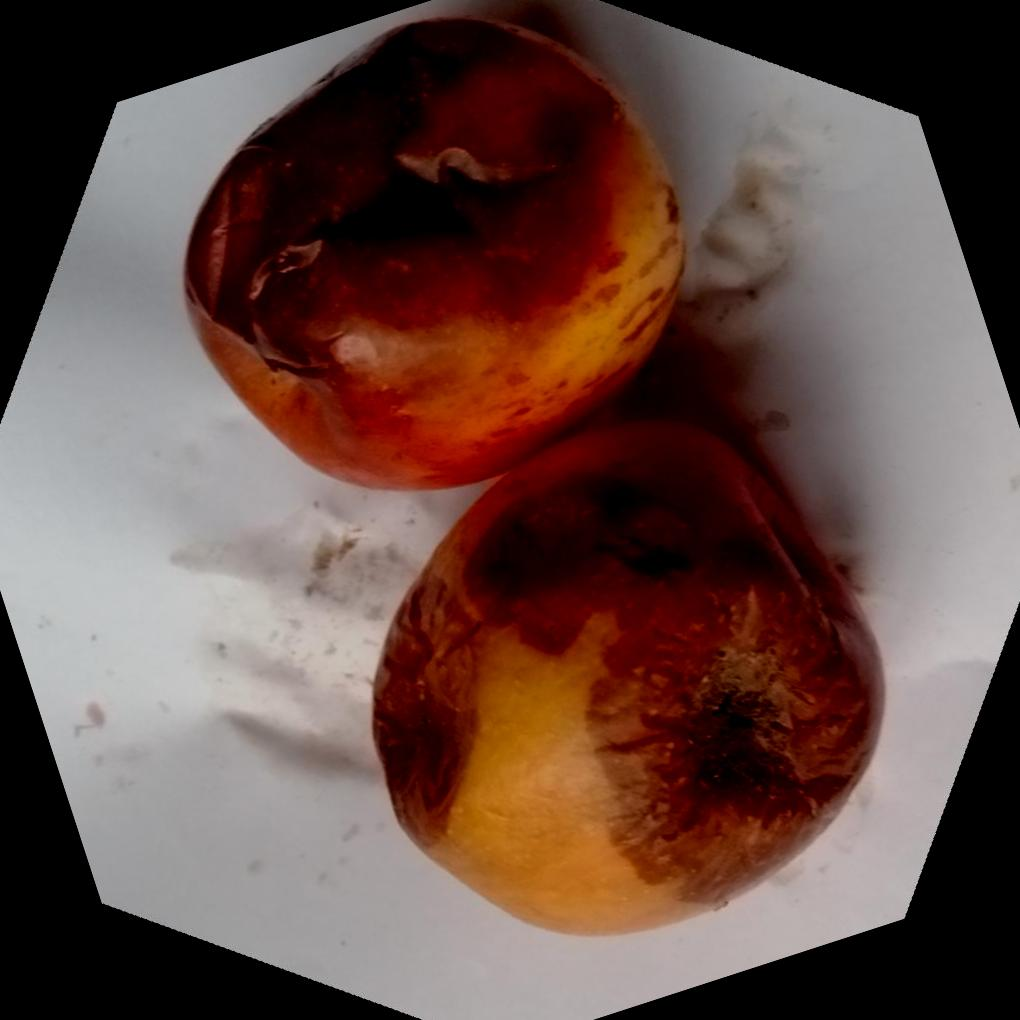FreshOrange: (184, 17, 886, 932)
